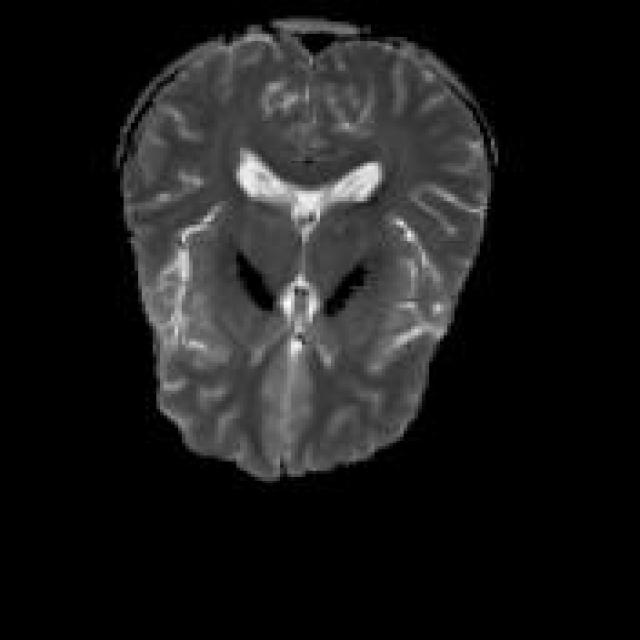CONTROL: (113, 15, 498, 480)
